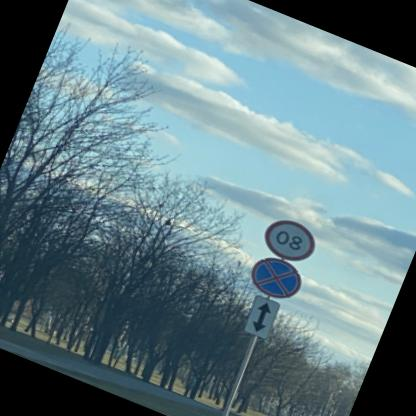speedlimit: (260, 213, 324, 268)
